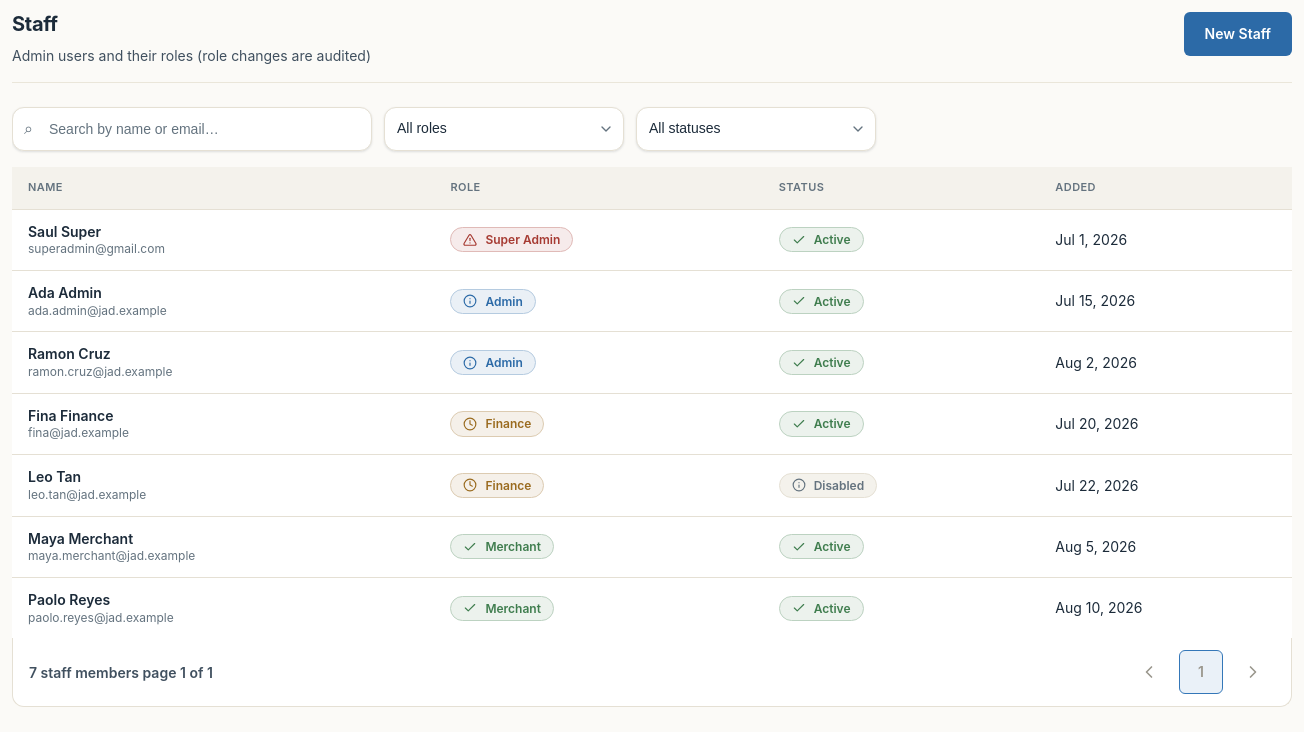
Test: StaffPage › filters by status
The image size is (1304, 732).
Expected: the text "Saul Super" is shown, [28,223,101,240]
Select "Disabled" in the dropdown named "Filter by status": (756, 129) [636,107,876,151]
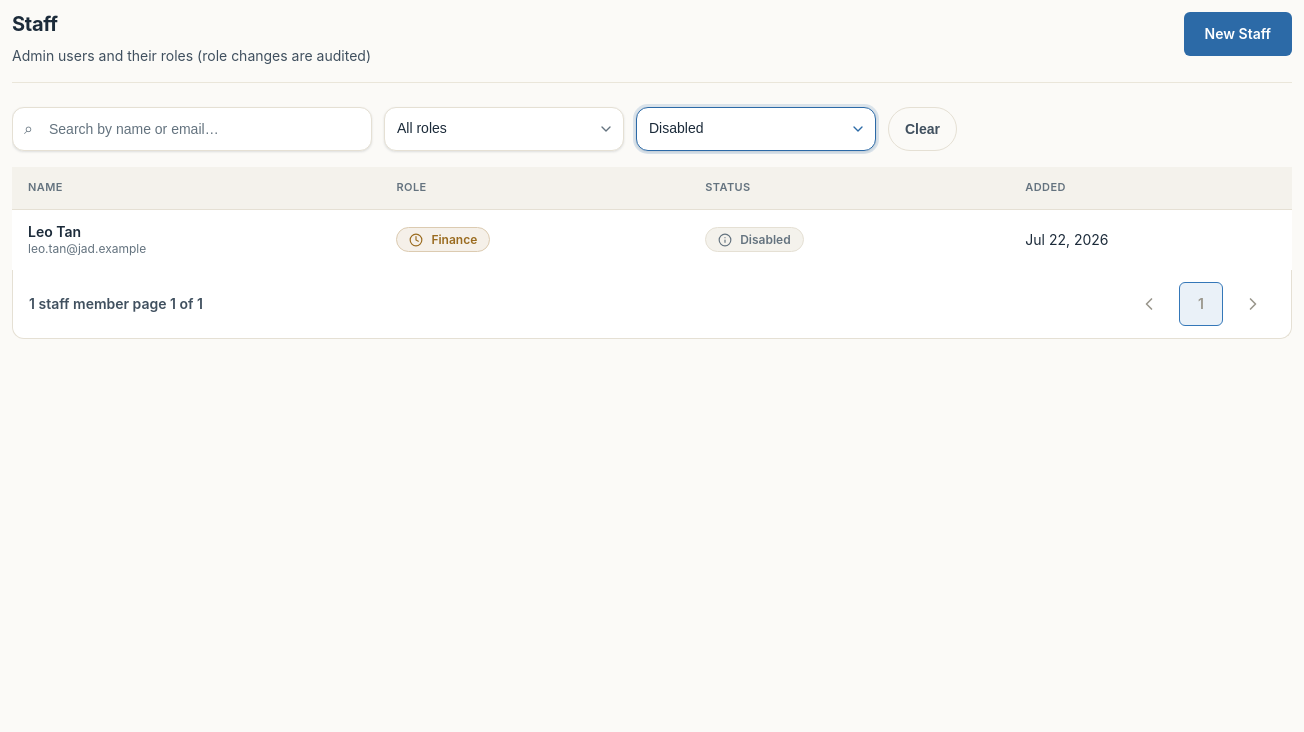
Expected: the text "Leo Tan" is shown, [28,223,81,240]
Expected: the text "Saul Super" is gone
Expected: the text "1 staff member page 1 of 1" is shown, [29,294,203,314]
